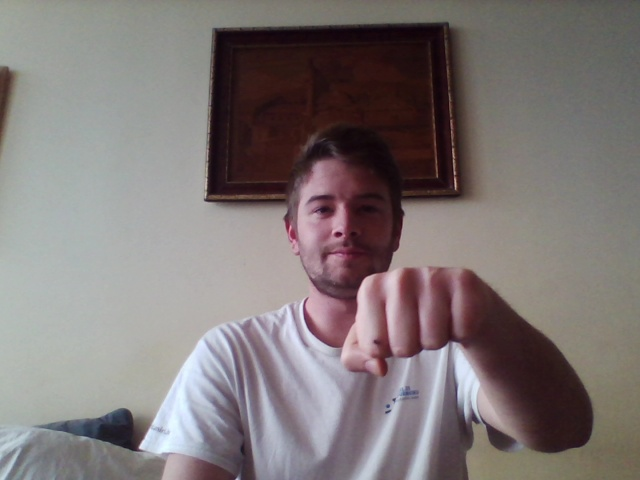da: (338, 263, 484, 379)
